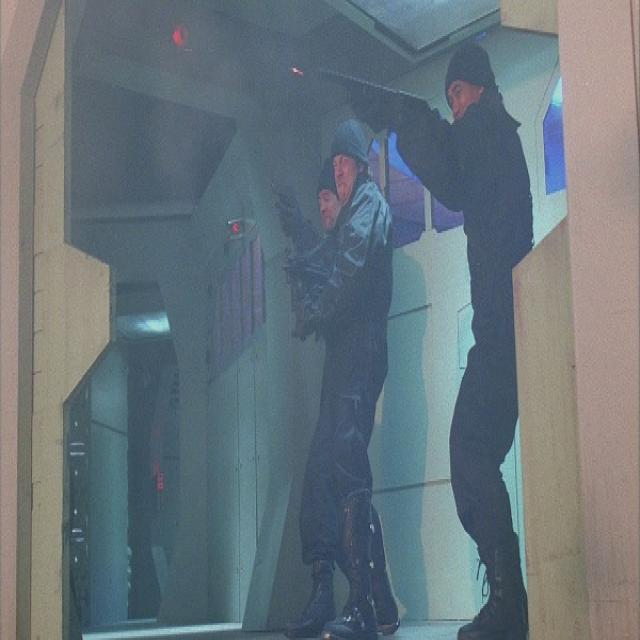rifle: (309, 59, 457, 150)
